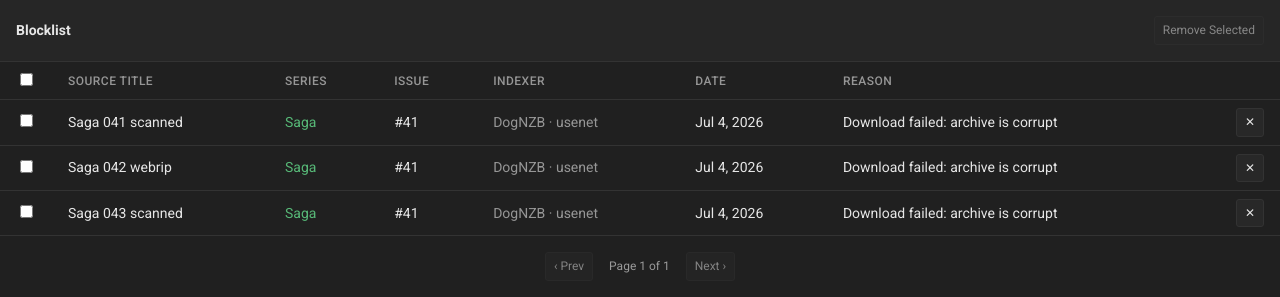
Scenario: FRG-UI-017: blocklist screen › FRG-UI-017 — bulk removal deletes the selected rows and reports which removals did not happen
The width and height of the screenshot is (1280, 297).
Expected: the row with test id "blocklist-row-11" is shown, [0,100,1279,145]
Click the checkbox named "Select Saga 041 scanned": (26, 121) [20,114,33,127]
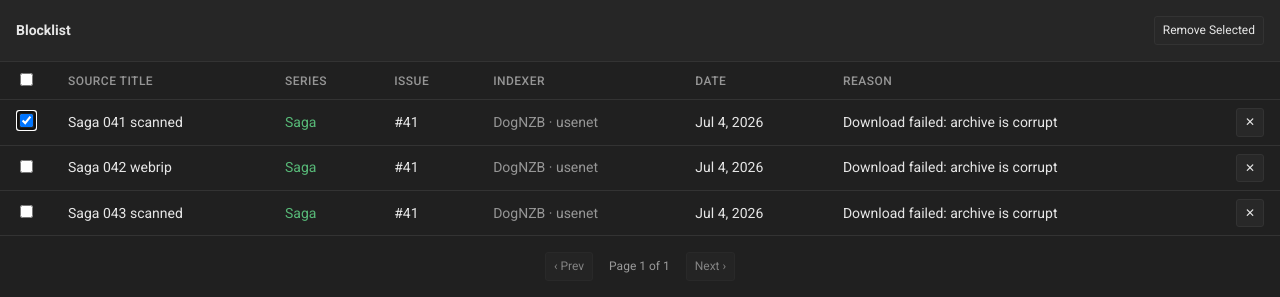
Click the checkbox named "Select Saga 042 webrip": (26, 166) [20,160,33,173]
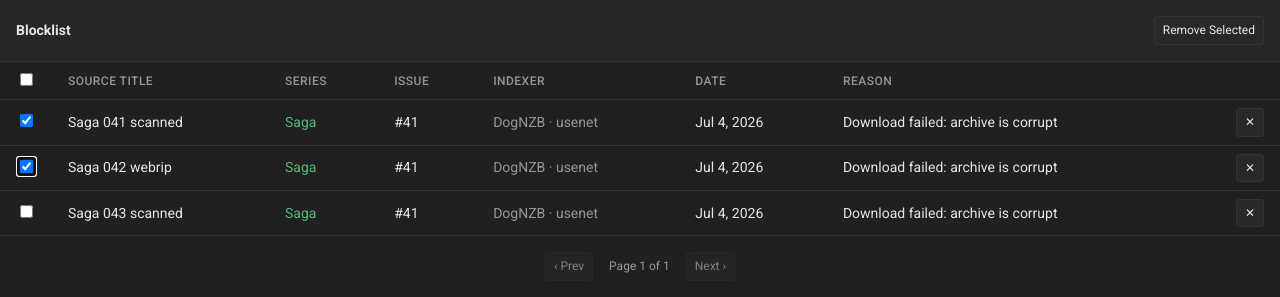
Click the button "Remove Selected": (1209, 30) [1154,16,1264,45]
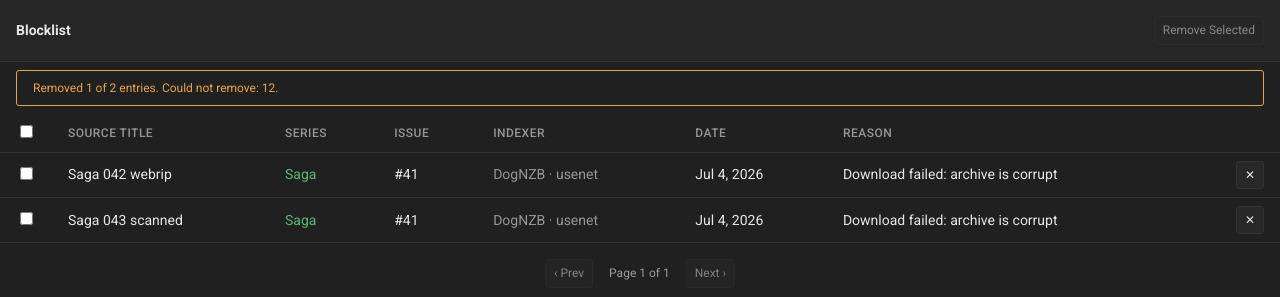
Expected: the row with test id "blocklist-row-12" is shown, [0,152,1279,198]
Result: the message reads "Removed 1 of 2 entries. Could not remove: 12." at [33,81,278,95]
Result: the row with test id "blocklist-row-11" is gone
